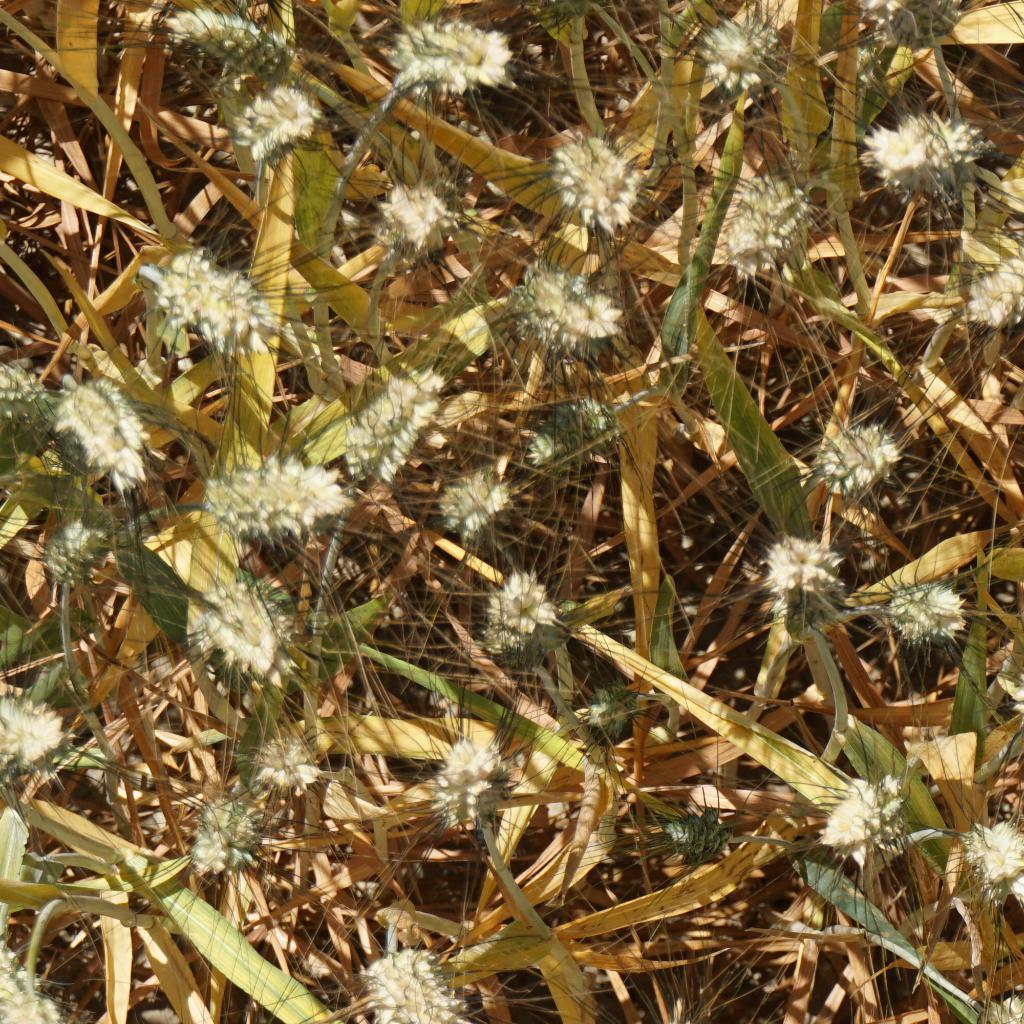0-0: (841, 112, 1006, 215), (128, 240, 269, 344), (53, 374, 167, 502), (195, 444, 342, 539), (709, 165, 826, 283), (336, 338, 429, 484), (183, 561, 295, 681), (377, 15, 512, 108), (541, 116, 637, 238), (425, 718, 512, 842), (514, 269, 633, 358), (819, 760, 917, 868), (370, 929, 476, 1024), (188, 772, 277, 884), (0, 929, 92, 1024), (482, 559, 570, 657), (807, 421, 913, 502), (366, 157, 454, 251), (961, 206, 1024, 333), (878, 567, 970, 649), (0, 667, 70, 772), (956, 803, 1024, 909), (533, 388, 616, 474), (763, 525, 833, 624), (655, 791, 736, 876), (163, 9, 281, 67), (244, 705, 316, 791), (37, 500, 108, 582), (230, 94, 314, 153), (577, 674, 647, 742), (702, 21, 763, 90), (453, 460, 512, 531), (0, 338, 39, 425), (958, 976, 1024, 1024), (996, 626, 1024, 714), (633, 1000, 728, 1024)
